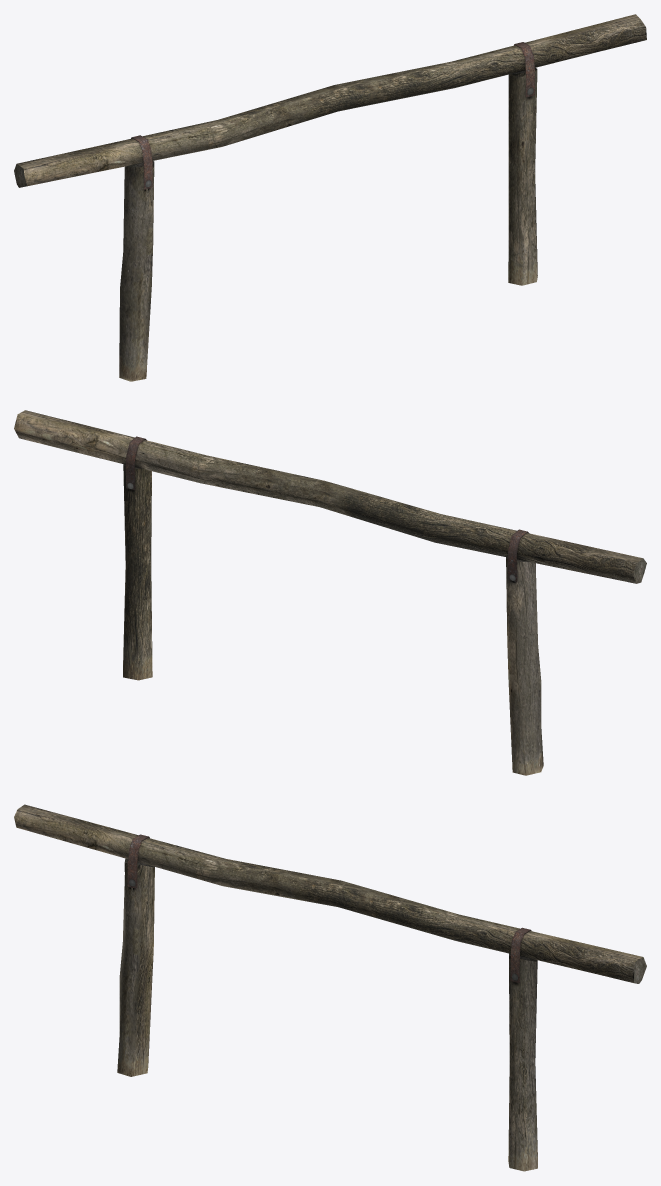
Rendered from HitchingPost.FBX.
3 renders of one model, top to bottom at view 1: azimuth 30°, elevation 25°; view 2: azimuth 150°, elevation 25°; view 3: azimuth 330°, elevation 25°, orthographic.
Parts seen in each view (by area): view 1: HitchingPost_LOD0; view 2: HitchingPost_LOD0; view 3: HitchingPost_LOD0.
Part boxes in pixels (x1,y1,x2,y2): HitchingPost_LOD0: [14, 14, 646, 381]; HitchingPost_LOD0: [14, 410, 646, 775]; HitchingPost_LOD0: [14, 804, 646, 1171].
Size of what is drawn, in the model's own units: 289 by 105 by 13.45.
